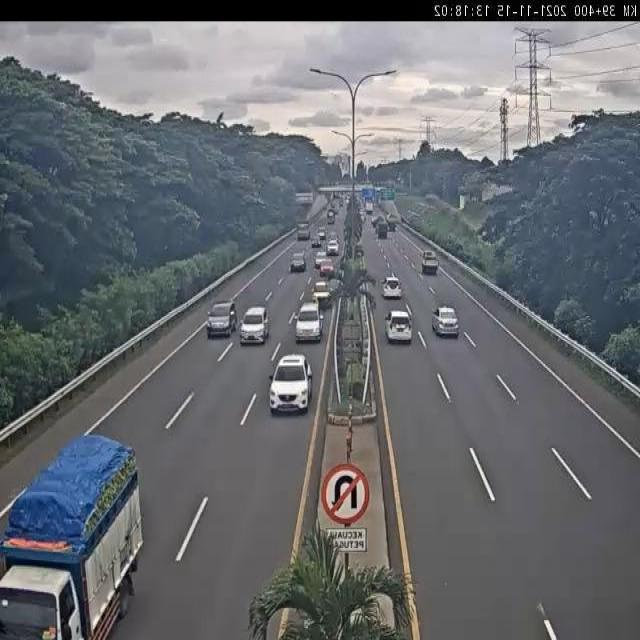Car: (262, 343, 315, 413), (233, 294, 270, 346), (205, 294, 239, 344), (294, 302, 324, 343), (385, 309, 413, 343), (432, 306, 459, 338), (312, 280, 332, 306), (382, 276, 402, 299), (290, 253, 306, 272), (314, 251, 328, 269), (320, 260, 334, 278), (327, 239, 339, 256), (386, 217, 396, 232), (311, 235, 321, 248), (317, 229, 326, 241)
Truck: (0, 436, 138, 639), (421, 250, 439, 274), (295, 218, 312, 242)
